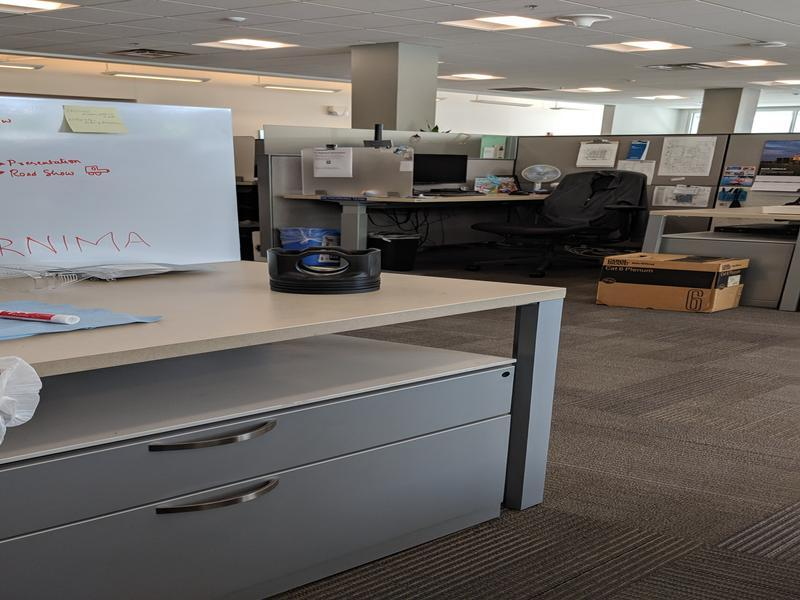piston: (263, 241, 386, 298)
